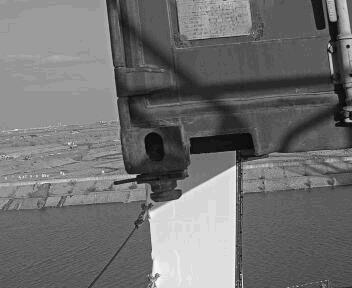twist_lock_1: (146, 162, 202, 209)
